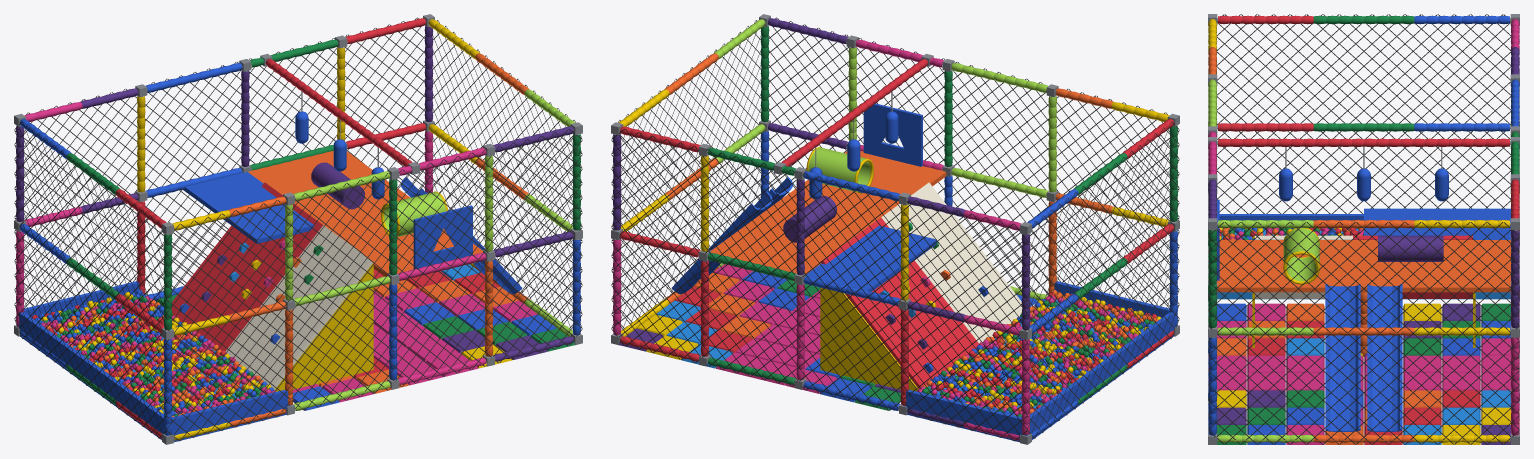
File: mini.glb
3 renders of one model, left to right at view 1: azimuth 30°, elevation 25°; view 2: azimuth 150°, elevation 25°; view 3: azimuth 270°, elevation 25°, orthographic. The views are drawn at different scales.
Visible parts, largest first — view 1: rede, isotubo, plataforma, piso, bolinhas, acolchoado, metal, plastico; view 2: rede, isotubo, plataforma, piso, bolinhas, acolchoado, metal, plastico; view 3: piso, rede, isotubo, plataforma, plastico, acolchoado, metal, bolinhas.
Boxes of the visible parts, x1,y1,x2,y2 form: rede: (14, 17, 582, 441); isotubo: (16, 18, 580, 440); plataforma: (171, 151, 484, 391); piso: (156, 264, 574, 410); bolinhas: (32, 289, 276, 416); acolchoado: (16, 111, 447, 442); metal: (14, 14, 582, 444); plastico: (179, 177, 522, 344); rede: (611, 17, 1179, 441); isotubo: (613, 18, 1177, 440); plataforma: (709, 103, 1022, 391); piso: (619, 264, 1037, 410); bolinhas: (917, 290, 1161, 416); acolchoado: (783, 111, 1177, 442); metal: (611, 14, 1179, 444); plastico: (671, 177, 988, 373); piso: (1208, 303, 1519, 444); rede: (1208, 14, 1519, 444); isotubo: (1208, 15, 1519, 443); plataforma: (1216, 199, 1511, 347); plastico: (1325, 284, 1402, 431); acolchoado: (1217, 168, 1510, 299); metal: (1208, 14, 1519, 444); bolinhas: (1219, 228, 1363, 239).
Size of the model in its own units: 0.6 by 0.3 by 0.38.
8 materials, 7 textured.
